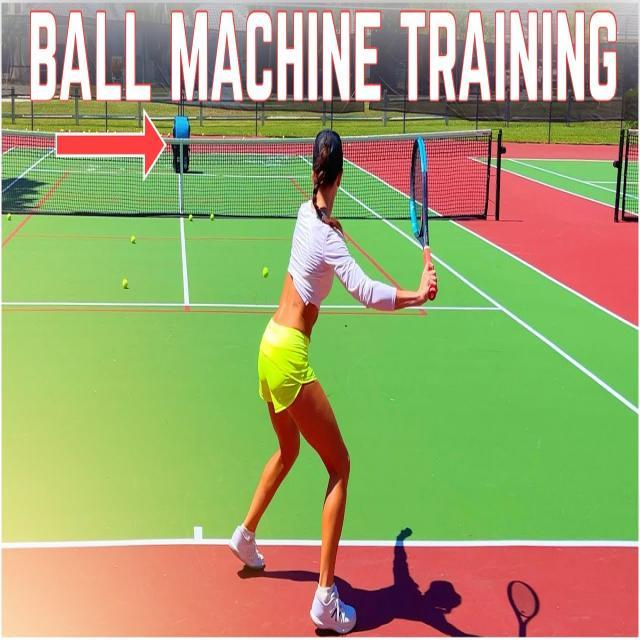court: (0, 178, 639, 585)
net: (3, 119, 502, 241)
player: (215, 112, 452, 640)
